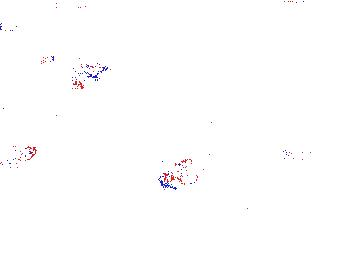X-ray fish: (158, 158, 212, 189), (276, 173, 312, 206), (279, 145, 317, 162)
red belly glassfish: (70, 69, 100, 90)
redtail glassfish: (43, 53, 107, 78), (1, 142, 38, 167)
